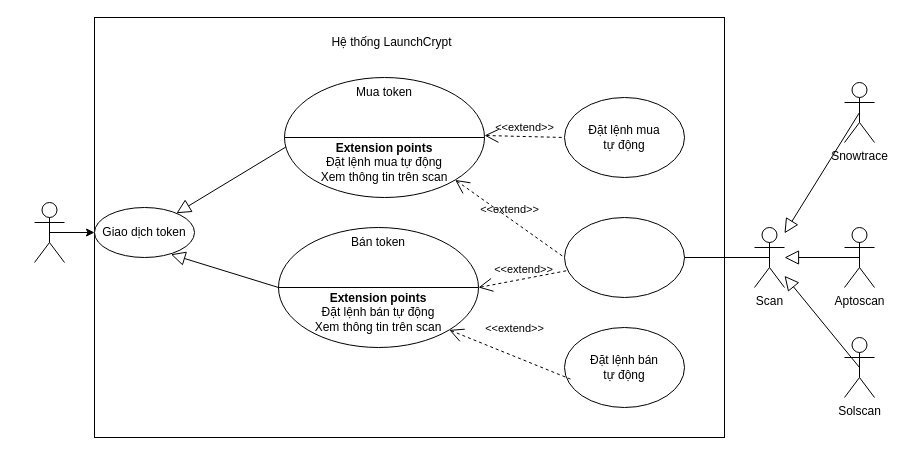
Some shapes in this 905 by 455 pixel diagram are drawn without their labels. Here are the shapes that lost their labels. From the top down, the box of each, then its label:
(34, 202, 64, 262): Người dùng
(564, 216, 684, 298): Xem thông tin trên scan
